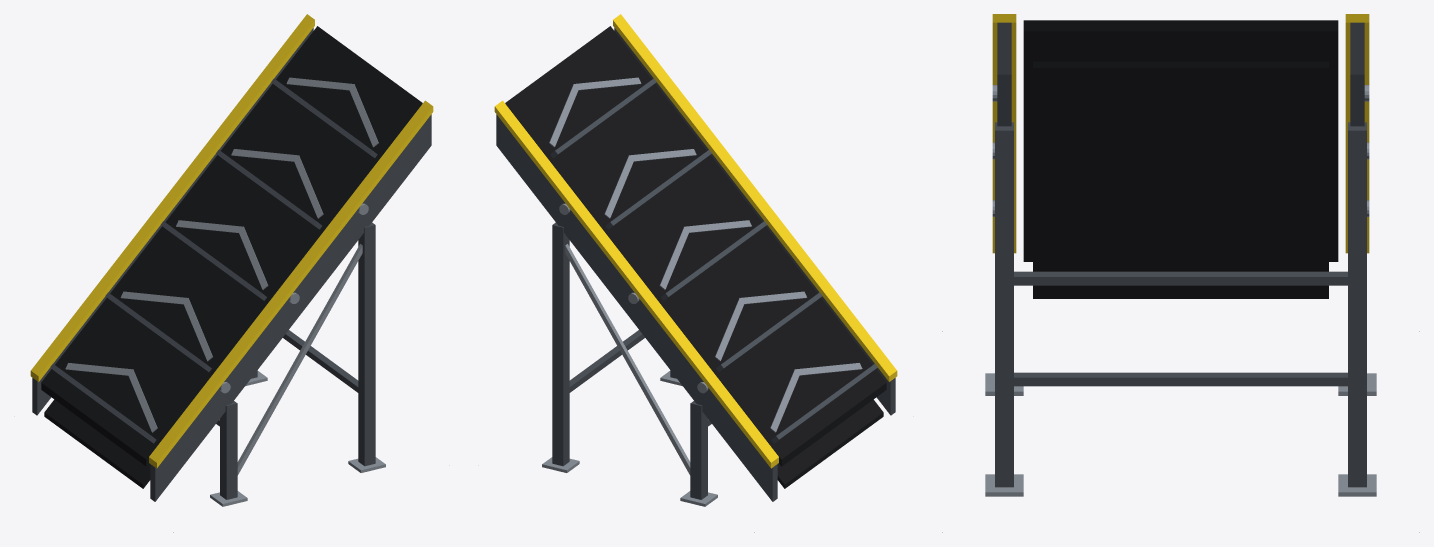
File: convoyeur_rampe_t1.glb
3 views of the same model, side by side, from view 1: azimuth 30°, elevation 25°; view 2: azimuth 150°, elevation 25°; view 3: azimuth 270°, elevation 25° (orthographic). The views are drawn at different scales.
Parts seen in each view (by area): view 1: bande_porteuse.024, longeron_-1.024, pieces_acier_sombre.016, rive_-1.024, rive_1.024, bande_acier.042, bande_acier_sombre.004, pieces_acier.048, bande_retour.024, longeron_1.024; view 2: bande_porteuse.024, longeron_1.024, pieces_acier_sombre.016, rive_1.024, rive_-1.024, bande_acier.042, bande_acier_sombre.004, pieces_acier.048, bande_retour.024, longeron_-1.024; view 3: bande_retour.024, pieces_acier_sombre.016, bande_porteuse.024, pieces_acier.048, rive_1.024, rive_-1.024, longeron_1.024, longeron_-1.024.
Part boxes in pixels (left/top/right/bottom): bande_porteuse.024: left=41, top=26, right=422, bottom=466; longeron_-1.024: left=150, top=114, right=431, bottom=501; pieces_acier_sombre.016: left=216, top=222, right=375, bottom=499; rive_-1.024: left=149, top=100, right=433, bottom=468; rive_1.024: left=30, top=14, right=314, bottom=381; bande_acier.042: left=65, top=77, right=378, bottom=432; bande_acier_sombre.004: left=50, top=78, right=377, bottom=443; pieces_acier.048: left=210, top=203, right=385, bottom=506; bande_retour.024: left=44, top=399, right=150, bottom=488; longeron_1.024: left=32, top=28, right=313, bottom=415; bande_porteuse.024: left=505, top=26, right=886, bottom=466; longeron_1.024: left=496, top=114, right=777, bottom=501; pieces_acier_sombre.016: left=552, top=222, right=711, bottom=499; rive_1.024: left=494, top=100, right=778, bottom=468; rive_-1.024: left=613, top=14, right=897, bottom=381; bande_acier.042: left=549, top=77, right=862, bottom=432; bande_acier_sombre.004: left=550, top=78, right=877, bottom=443; pieces_acier.048: left=542, top=203, right=717, bottom=506; bande_retour.024: left=777, top=399, right=883, bottom=488; longeron_-1.024: left=614, top=28, right=895, bottom=415; bande_retour.024: left=1033, top=61, right=1328, bottom=298; pieces_acier_sombre.016: left=995, top=122, right=1366, bottom=487; bande_porteuse.024: left=1023, top=20, right=1338, bottom=261; pieces_acier.048: left=985, top=85, right=1376, bottom=496; rive_1.024: left=1345, top=14, right=1369, bottom=253; rive_-1.024: left=992, top=14, right=1016, bottom=253; longeron_1.024: left=1350, top=22, right=1364, bottom=126; longeron_-1.024: left=997, top=22, right=1011, bottom=126.
Bounding box in the file's own units: 1 × 1.2 × 1.
